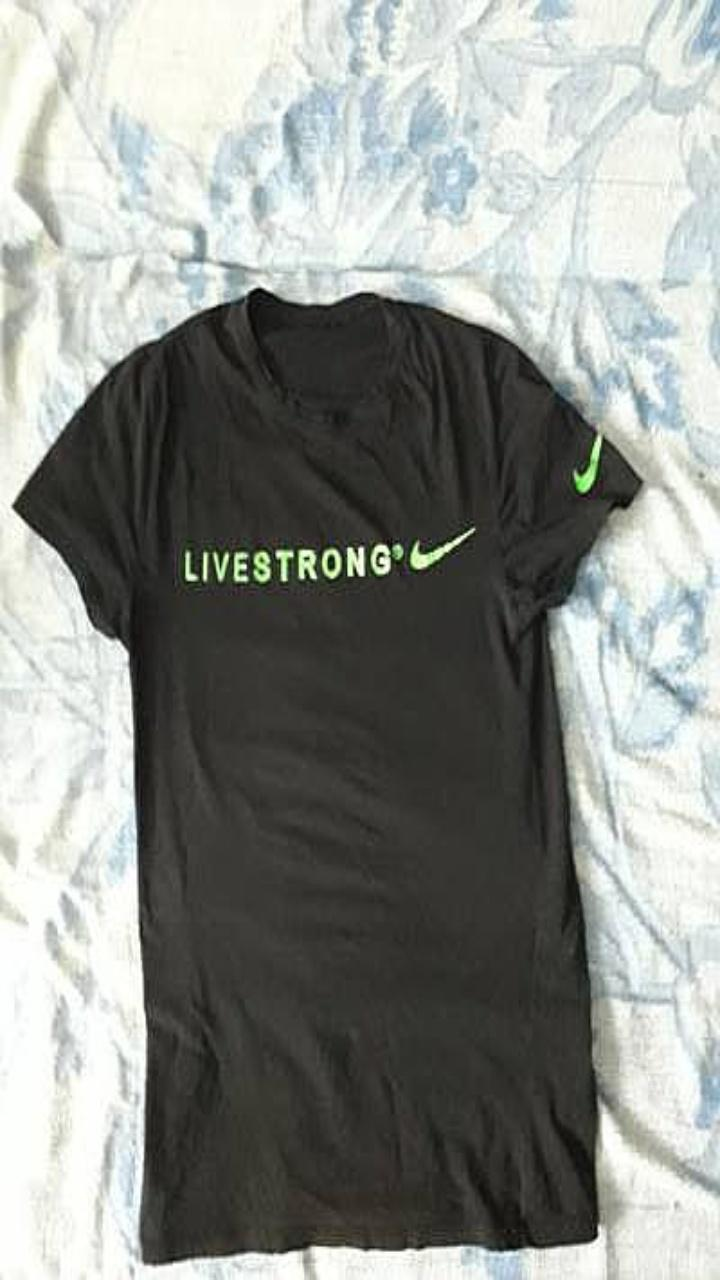T-Shirt: (13, 287, 641, 1262)
